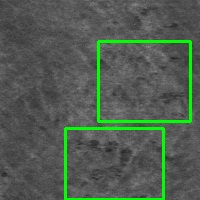rolled-in_scale: (98, 41, 190, 121), (65, 128, 163, 199)
